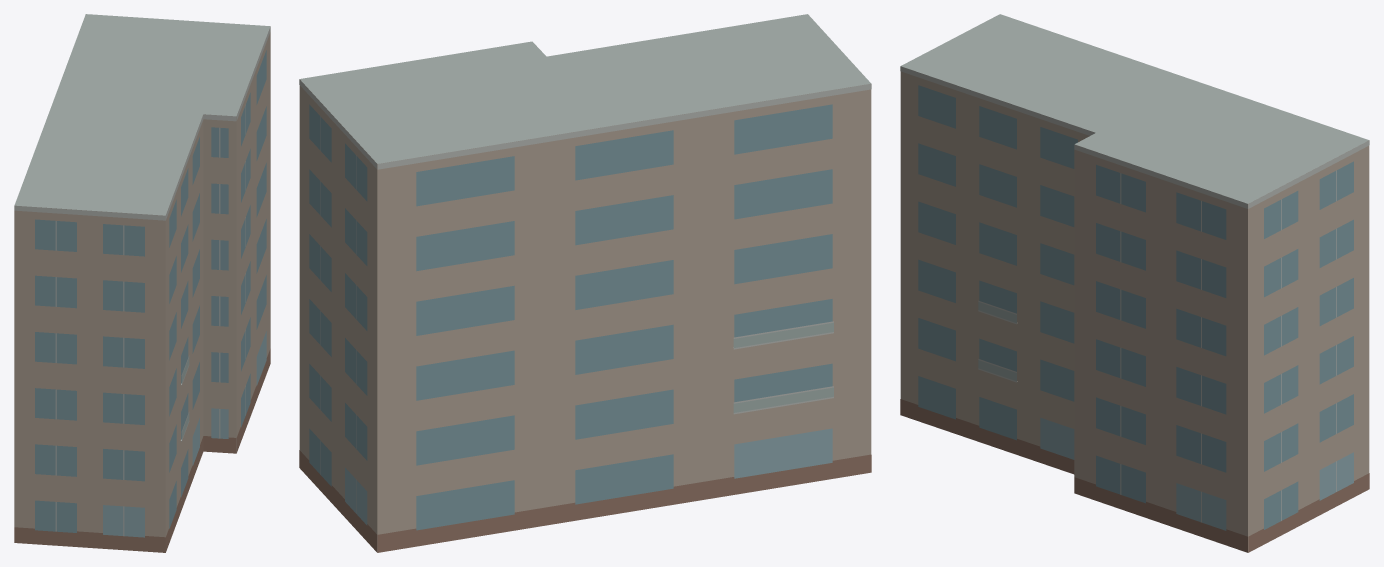
Rendered from survey-upis-33039804.glb.
3 views of the same model, side by side, from view 1: azimuth 30°, elevation 25°; view 2: azimuth 150°, elevation 25°; view 3: azimuth 270°, elevation 25° (orthographic). The views are drawn at different scales.
Visible parts, largest first — view 1: survey-upis-33039804.tmp; view 2: survey-upis-33039804.tmp; view 3: survey-upis-33039804.tmp.
Part boxes in pixels (box(x1,y1,x2,y2)): survey-upis-33039804.tmp: box(14, 14, 270, 552); survey-upis-33039804.tmp: box(299, 14, 871, 552); survey-upis-33039804.tmp: box(900, 14, 1369, 552).
Bounding box in the file's own units: 19.27 × 16.5 × 20.1.
